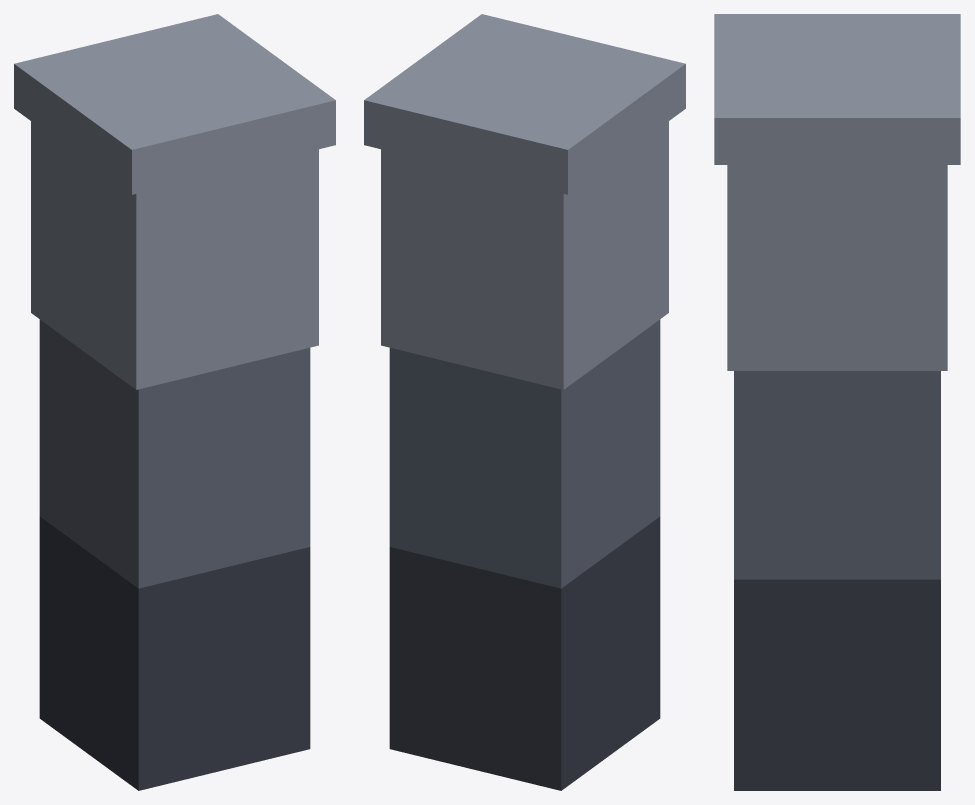
Rendered from TW_STONE_END_CAP_A_LOD0.glb.
3 views of the same model, side by side, from view 1: azimuth 30°, elevation 25°; view 2: azimuth 150°, elevation 25°; view 3: azimuth 270°, elevation 25° (orthographic). The views are drawn at different scales.
Visible parts, largest first — view 1: TW_STONE_END_CAP_A_LOD0; view 2: TW_STONE_END_CAP_A_LOD0; view 3: TW_STONE_END_CAP_A_LOD0.
Part boxes in pixels (<box>): TW_STONE_END_CAP_A_LOD0: <box>14,14,335,790</box>; TW_STONE_END_CAP_A_LOD0: <box>364,14,685,790</box>; TW_STONE_END_CAP_A_LOD0: <box>714,14,960,790</box>.
Bounding box in the file's own units: 0.38 × 1.16 × 0.38.
Materials: 1 (1 with a texture image).
